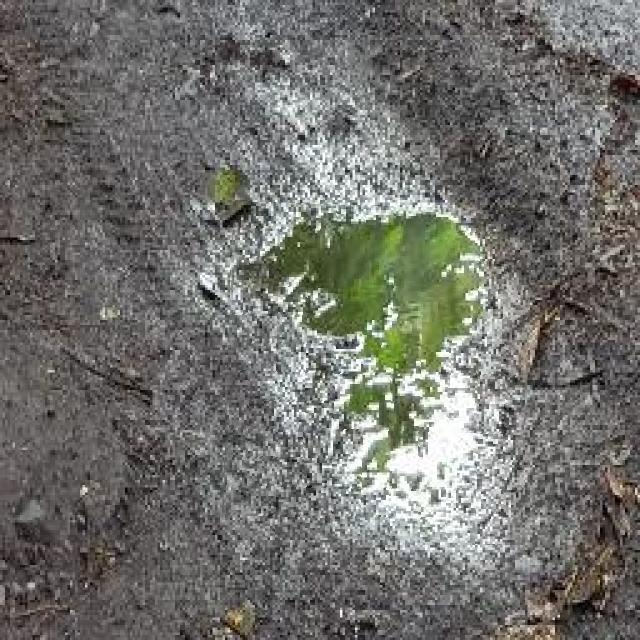puddle: (225, 205, 531, 543)
